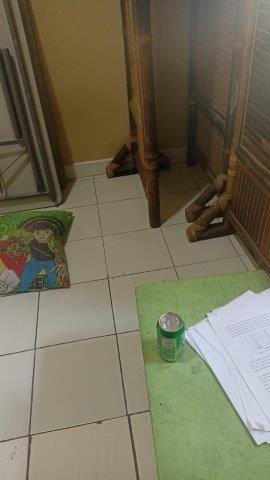kaleng: (157, 312, 185, 364)
kertas: (185, 288, 270, 443)
